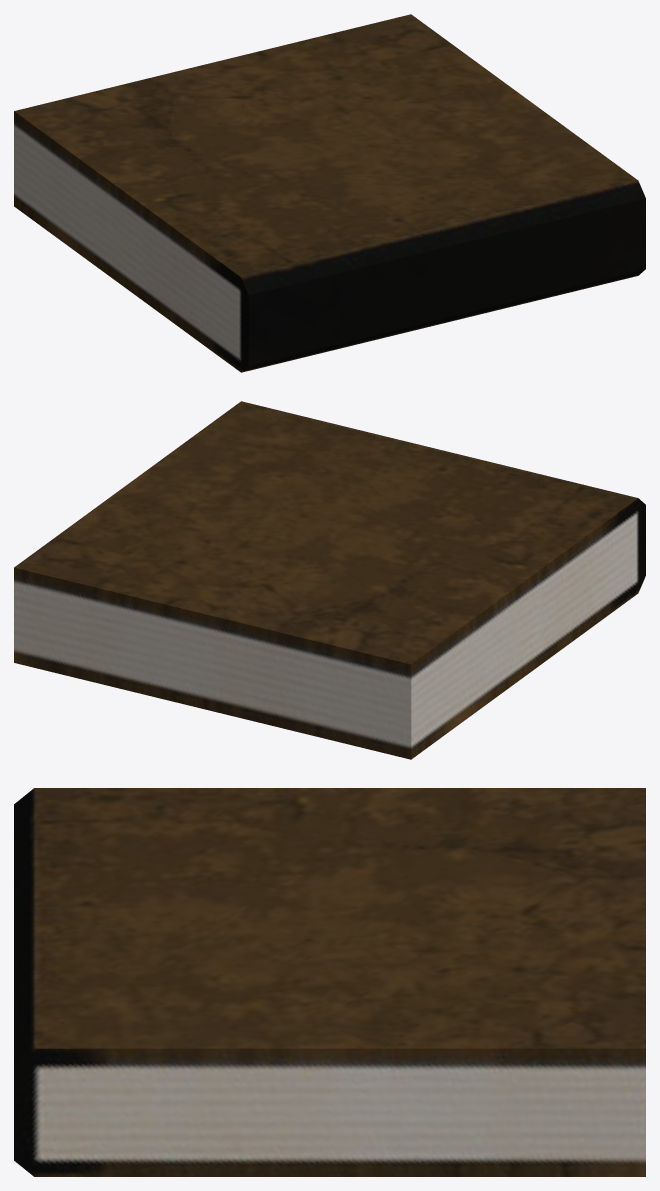
The model's file is Book1_vi.fbx.
The picture shows the model from 3 angles, top to bottom: view 1: azimuth 30°, elevation 25°; view 2: azimuth 150°, elevation 25°; view 3: azimuth 270°, elevation 25°; orthographic projection. The views are drawn at different scales.
Visible parts, largest first — view 1: book1; view 2: book1; view 3: book1.
Part boxes in pixels (x1,y1,x2,y2): book1: [14, 14, 645, 372]; book1: [14, 401, 645, 759]; book1: [14, 788, 645, 1176].
Size of the model in its own units: 0.00564 by 0.00129 by 0.00578.
Materials: 1 (1 with a texture image).
